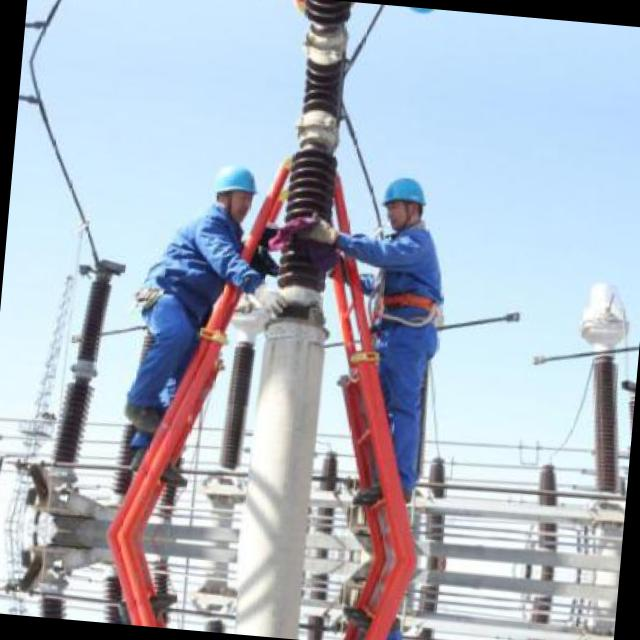helmet: (376, 168, 430, 232), (208, 159, 260, 218), (394, 6, 446, 22)
